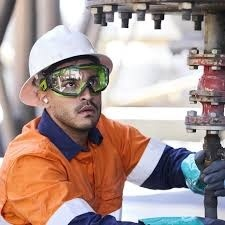safety_goggles: (36, 65, 119, 100)
